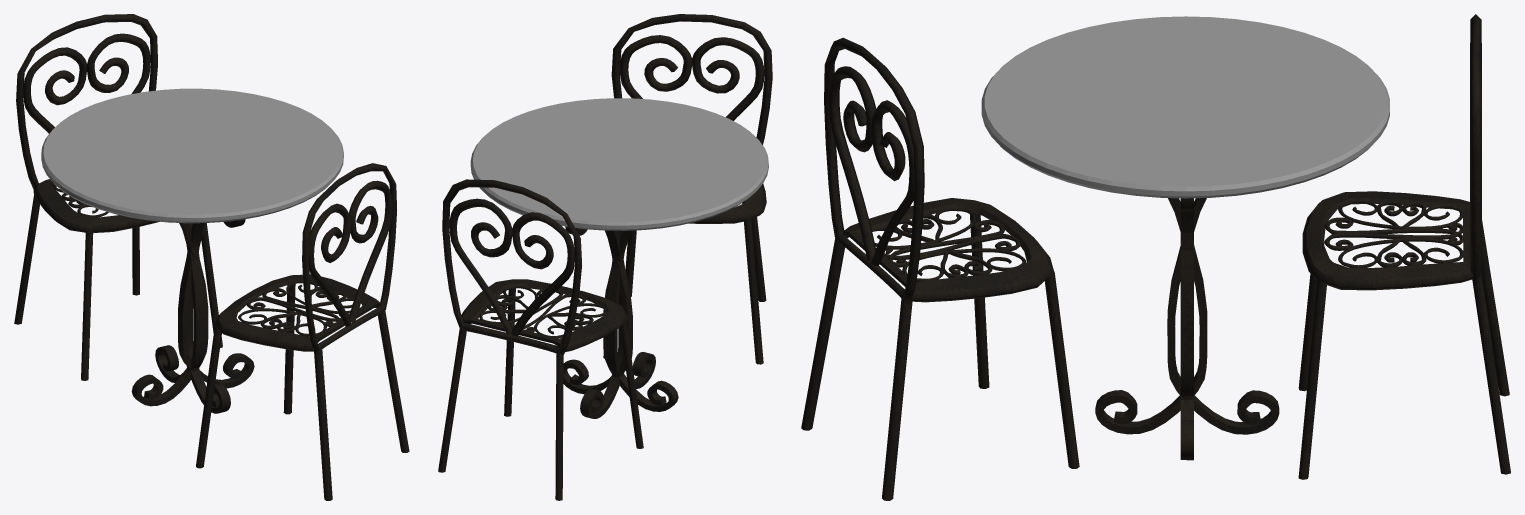
File: Romantic Table.FBX
3 views of the same model, side by side, from view 1: azimuth 30°, elevation 25°; view 2: azimuth 150°, elevation 25°; view 3: azimuth 270°, elevation 25° (orthographic). The views are drawn at different scales.
Parts seen in each view (by area): view 1: top, chair2, chair1, leg; view 2: top, chair1, chair2, leg; view 3: top, chair2, chair1, leg.
Boxes of the visible parts, box(x1,y1,x2,y2) form: top: box(41, 88, 343, 223); chair2: box(196, 163, 409, 500); chair1: box(14, 14, 222, 380); leg: box(131, 219, 254, 413); top: box(470, 98, 768, 230); chair1: box(438, 179, 643, 500); chair2: box(603, 14, 772, 364); leg: box(563, 223, 690, 418); top: box(981, 16, 1389, 198); chair2: box(801, 37, 1079, 500); chair1: box(1298, 14, 1510, 479); leg: box(1095, 198, 1279, 460).
Size of the model in its own units: 246 by 427 by 267.
